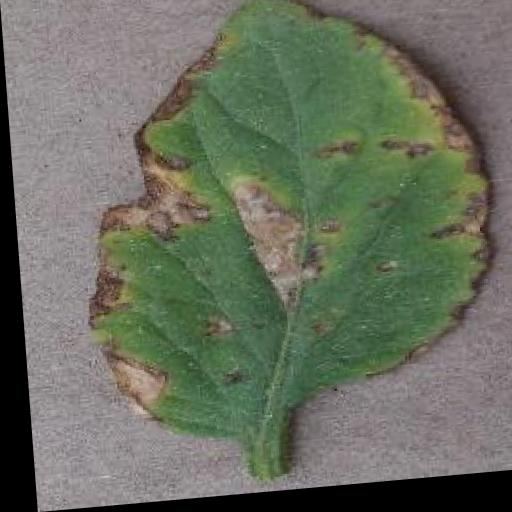Bacterial Spot: (60, 0, 512, 449)
